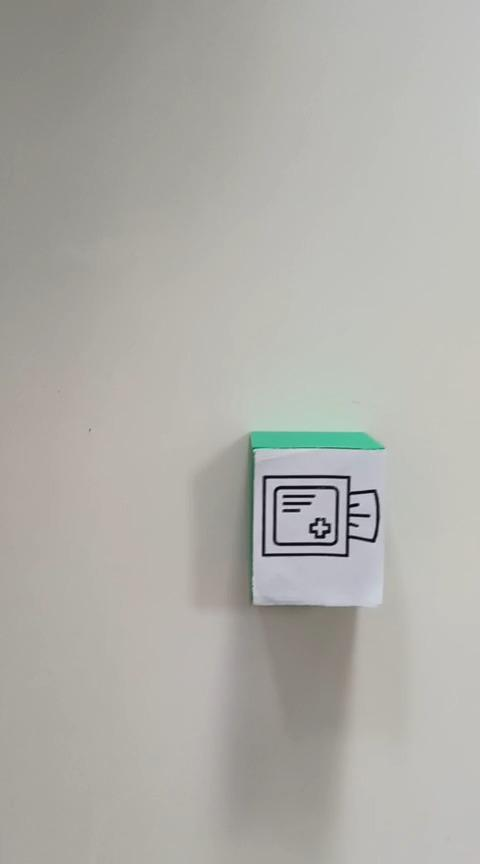Gauze: (247, 429, 386, 608)
